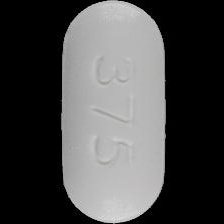50268-595: (0, 0, 224, 224)
